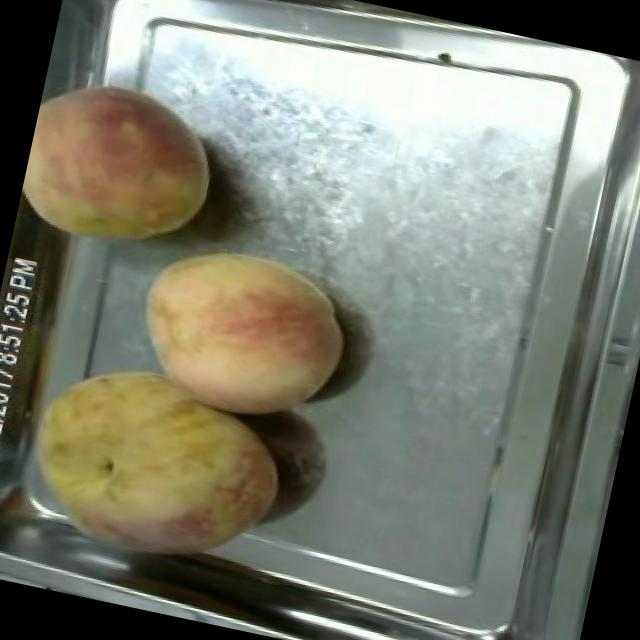Fruit: (0, 328, 308, 592), (111, 220, 367, 441), (11, 60, 237, 274)
